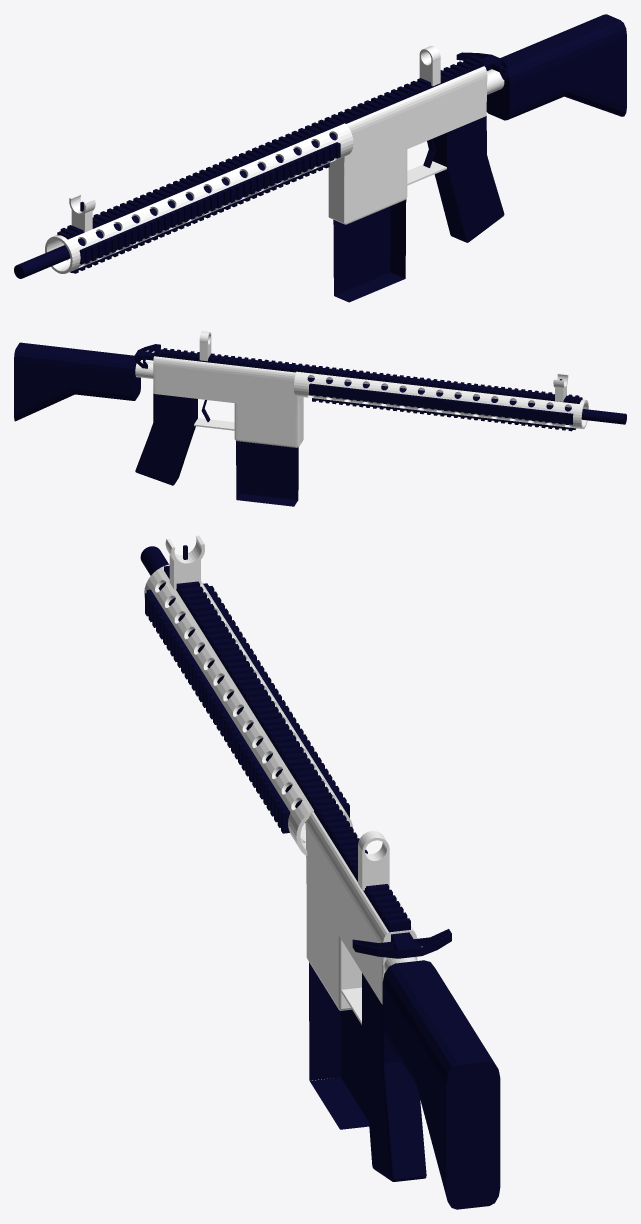
File: stoner0012.obj
The picture shows the model from 3 angles, top to bottom: view 1: azimuth 30°, elevation 25°; view 2: azimuth 150°, elevation 25°; view 3: azimuth 270°, elevation 25°; orthographic projection. The views are drawn at different scales.
Parts seen in each view (by area): view 1: shoulderStock, upperReceiver, rearPistolGrip, mag, picatinyRail, handGuard, picatinyRailLeft, magWell, barrel, picatinyRailBottom, handle, lowerTriggerGuard (+1 smaller); view 2: shoulderStock, upperReceiver, handGuard, rearPistolGrip, mag, picatinyRail, picatinyRailRight, magWell, barrel, picatinyRailBottom, lowerTriggerGuard, handle (+1 smaller); view 3: shoulderStock, picatinyRail, rearPistolGrip, handGuard, mag, upperReceiver, picatinyRailLeft, magWell, picatinyRailRight, handle, barrel.
Boxes of the visible parts, x1,y1,x2,y2 form: shoulderStock: [486, 14, 626, 120]; upperReceiver: [328, 66, 487, 175]; rearPistolGrip: [432, 116, 504, 242]; mag: [333, 199, 406, 302]; picatinyRail: [57, 56, 483, 239]; handGuard: [45, 123, 353, 273]; picatinyRailLeft: [79, 142, 340, 264]; magWell: [328, 149, 407, 224]; barrel: [14, 132, 336, 278]; picatinyRailBottom: [70, 163, 329, 273]; handle: [456, 52, 508, 79]; lowerTriggerGuard: [407, 161, 446, 185]; shoulderStock: [14, 342, 140, 421]; upperReceiver: [153, 356, 303, 410]; handGuard: [294, 371, 588, 429]; rearPistolGrip: [135, 393, 197, 485]; mag: [236, 440, 298, 506]; picatinyRail: [154, 347, 582, 403]; picatinyRailRight: [309, 383, 573, 424]; magWell: [234, 403, 303, 447]; barrel: [307, 377, 626, 424]; picatinyRailBottom: [312, 398, 576, 431]; lowerTriggerGuard: [194, 418, 234, 430]; handle: [134, 344, 160, 368]; shoulderStock: [382, 960, 500, 1209]; picatinyRail: [164, 565, 410, 932]; rearPistolGrip: [362, 973, 426, 1181]; handGuard: [144, 564, 352, 855]; mag: [309, 962, 369, 1129]; upperReceiver: [305, 812, 417, 1004]; picatinyRailLeft: [145, 589, 290, 833]; magWell: [306, 885, 361, 1010]; picatinyRailRight: [203, 583, 349, 817]; handle: [352, 929, 451, 958]; barrel: [140, 546, 305, 822].
Size of the model in its own units: 8.78 by 2.54 by 2.57.
